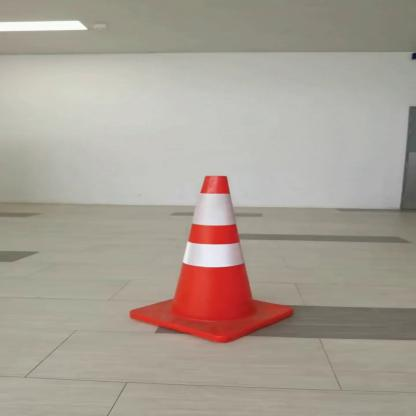cone: (108, 170, 306, 342)
